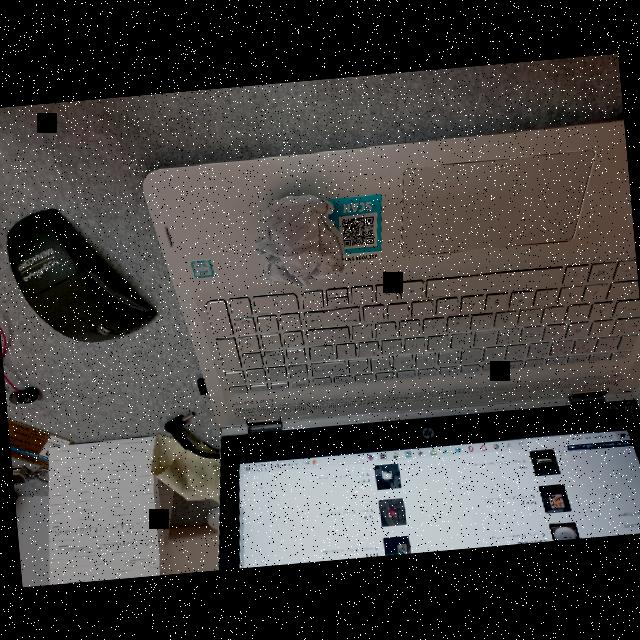scrap_paper: (240, 178, 358, 298)
